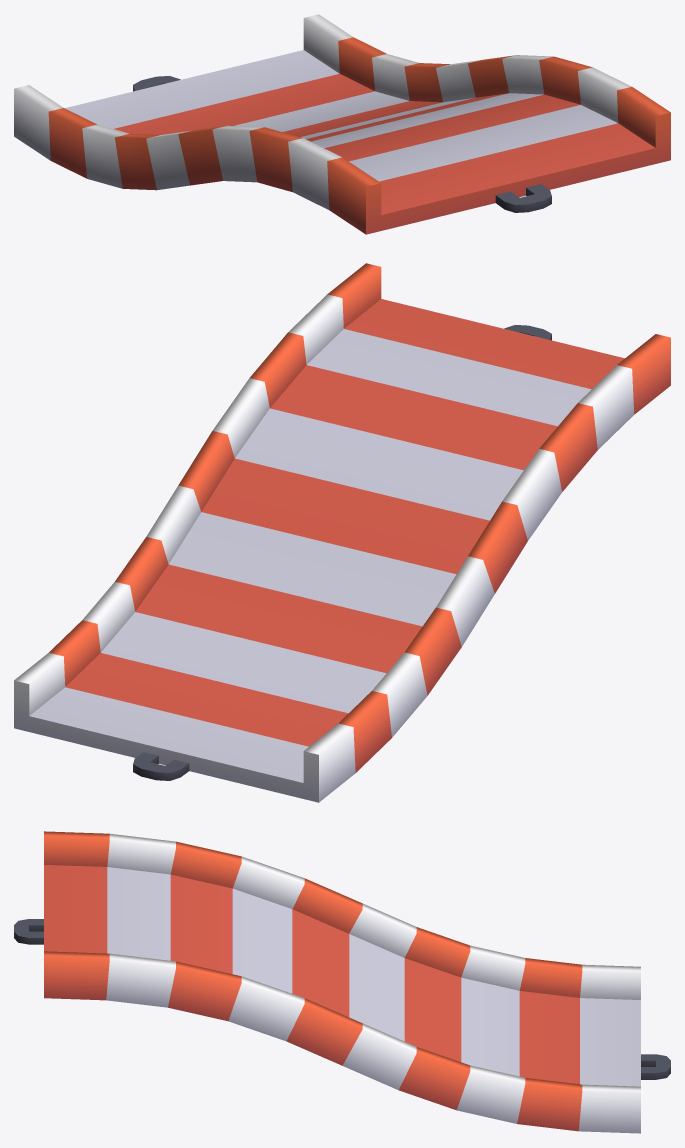
The model's file is kenney-toy-car-track-striped-wide-straight-hill-complete.glb.
3 views of the same model, one above another, from view 1: azimuth 30°, elevation 25°; view 2: azimuth 150°, elevation 25°; view 3: azimuth 270°, elevation 25° (orthographic). The views are drawn at different scales.
Visible parts, largest first — view 1: track-striped-wide-straight-hill-complete; view 2: track-striped-wide-straight-hill-complete; view 3: track-striped-wide-straight-hill-complete.
Boxes of the visible parts, x1,y1,x2,y2 form: track-striped-wide-straight-hill-complete: (14, 14, 670, 234); track-striped-wide-straight-hill-complete: (14, 263, 670, 802); track-striped-wide-straight-hill-complete: (14, 831, 670, 1133).
Bounding box in the file's own units: 2 × 1.3 × 4.4.
1 material, 1 textured.
